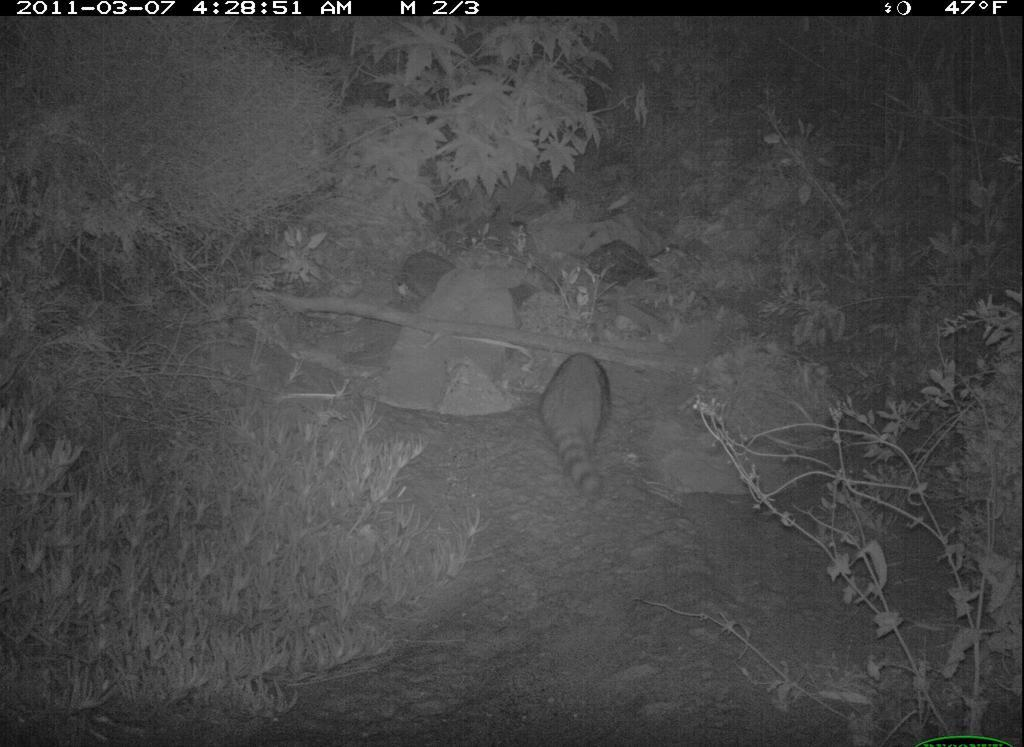raccoon: (543, 354, 617, 504)
